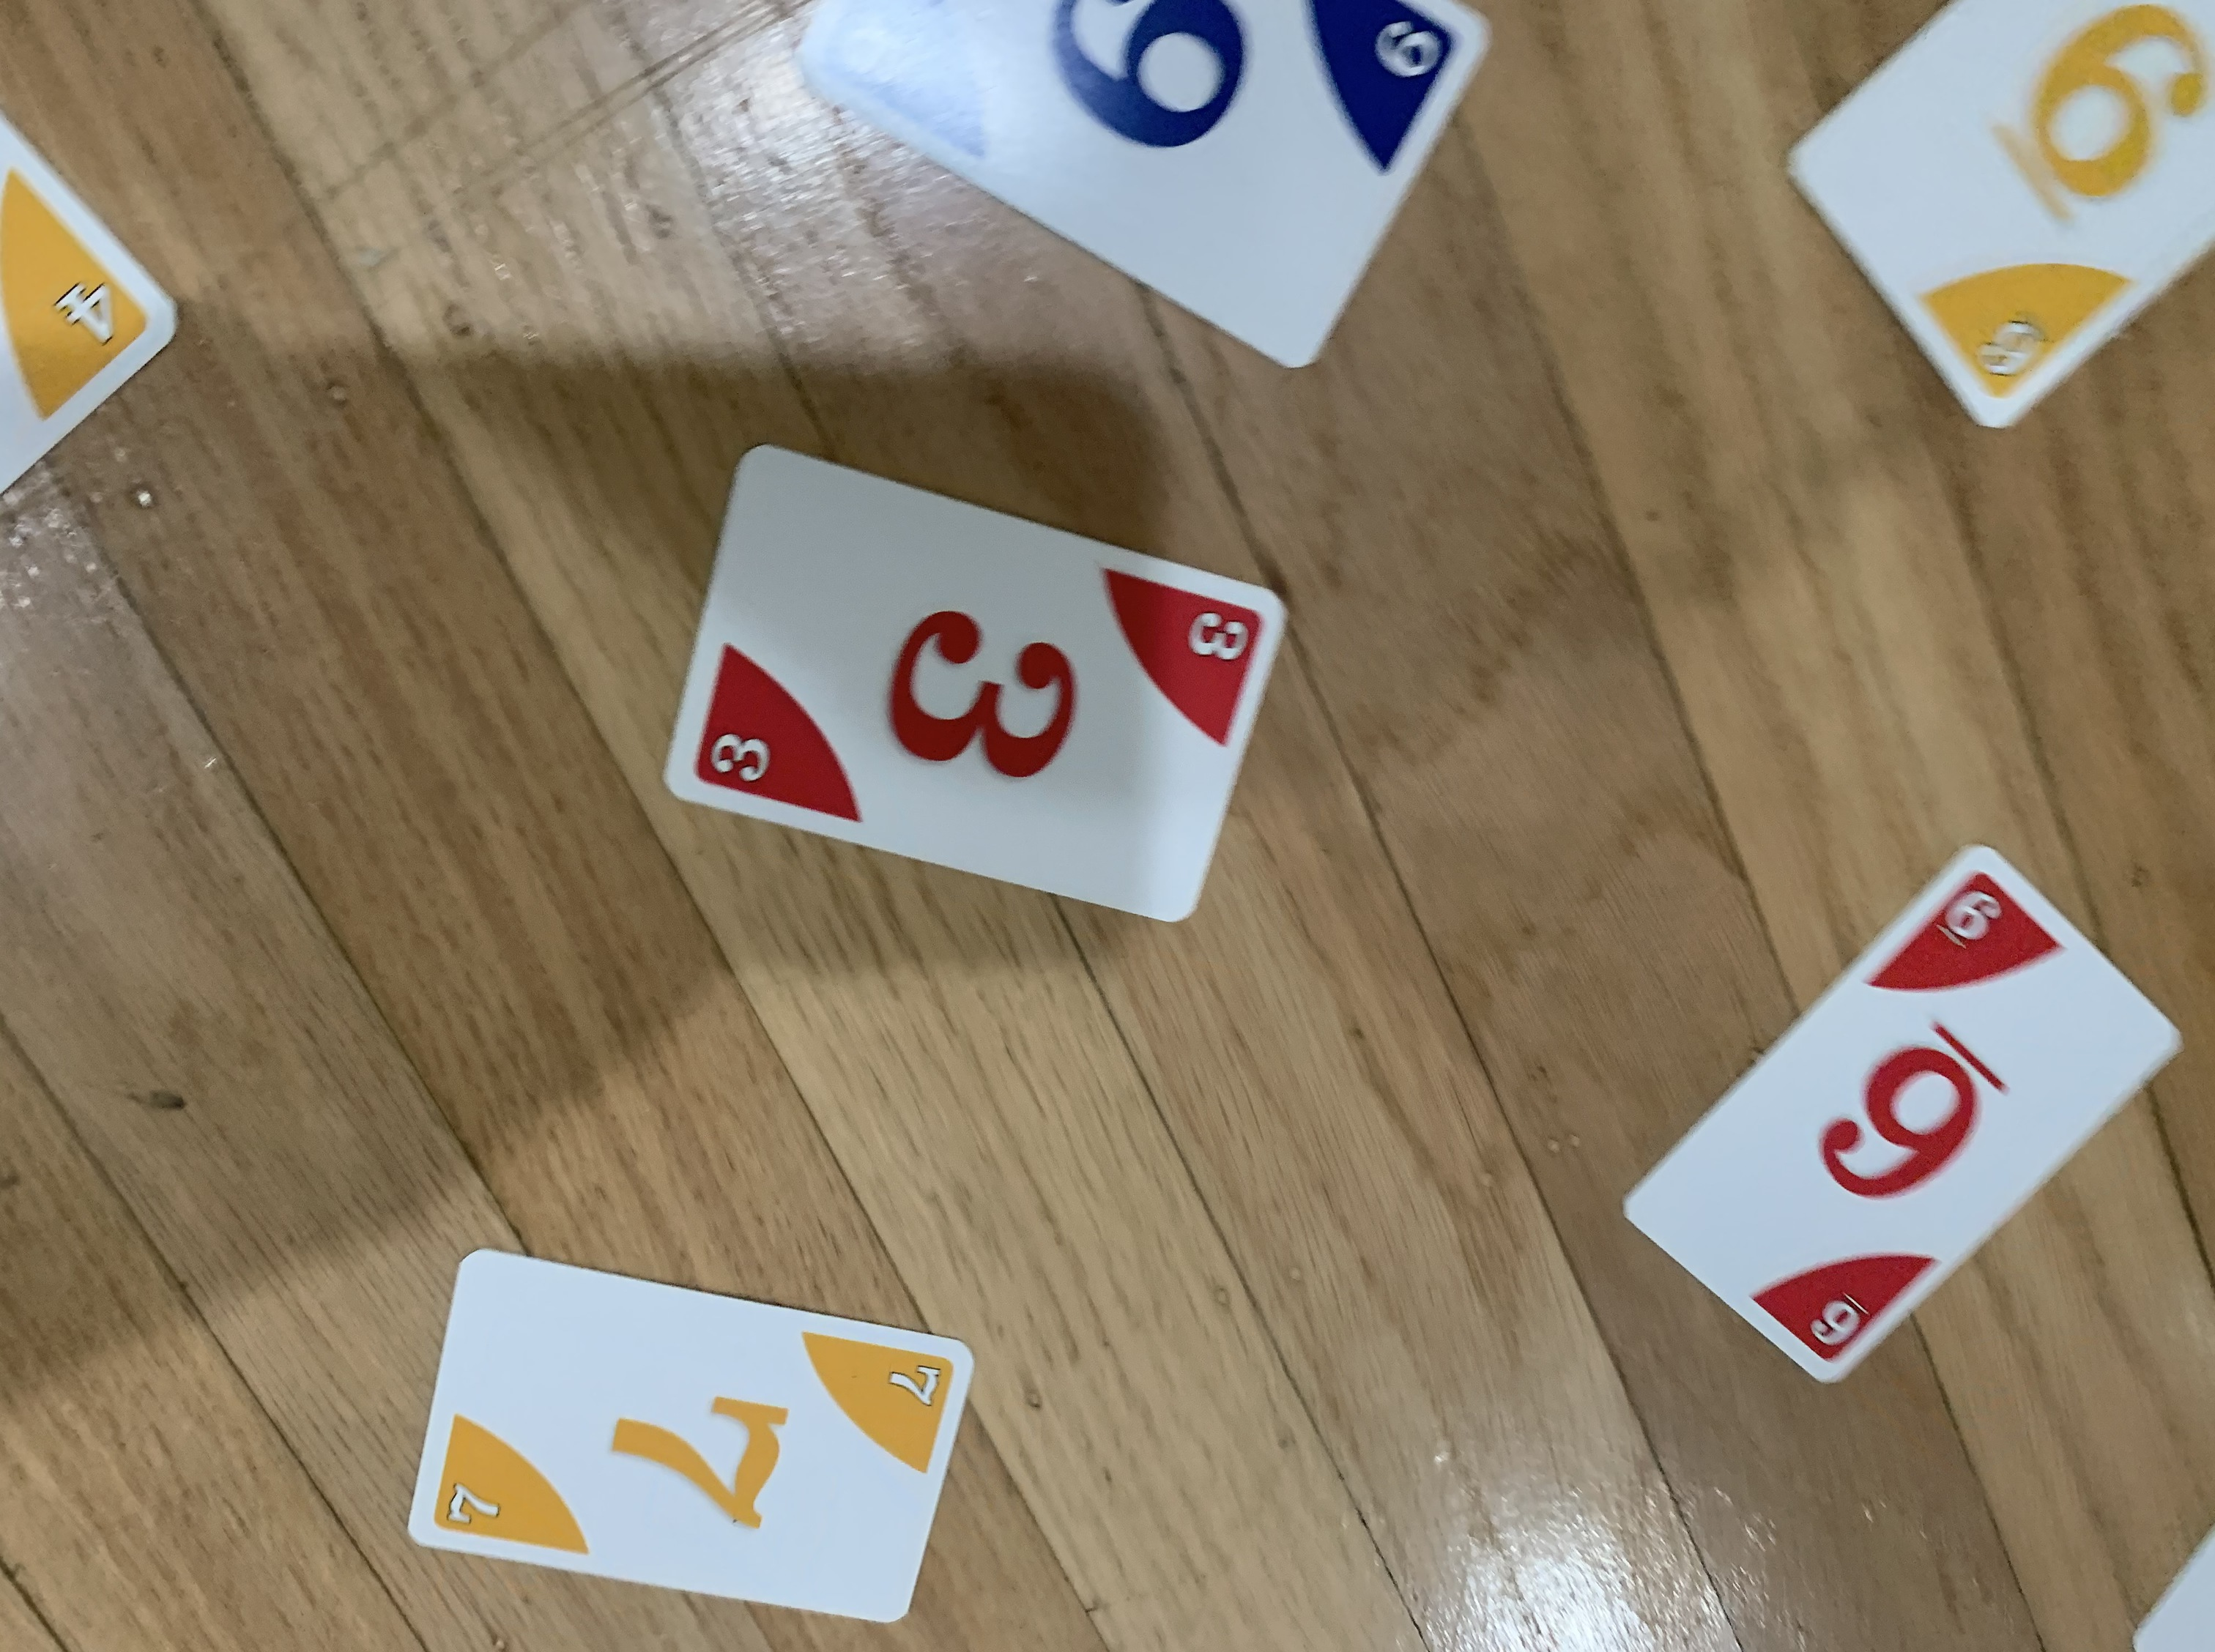seven: (401, 1234, 981, 1631)
six: (1590, 828, 2194, 1393)
three: (646, 437, 1297, 927)
